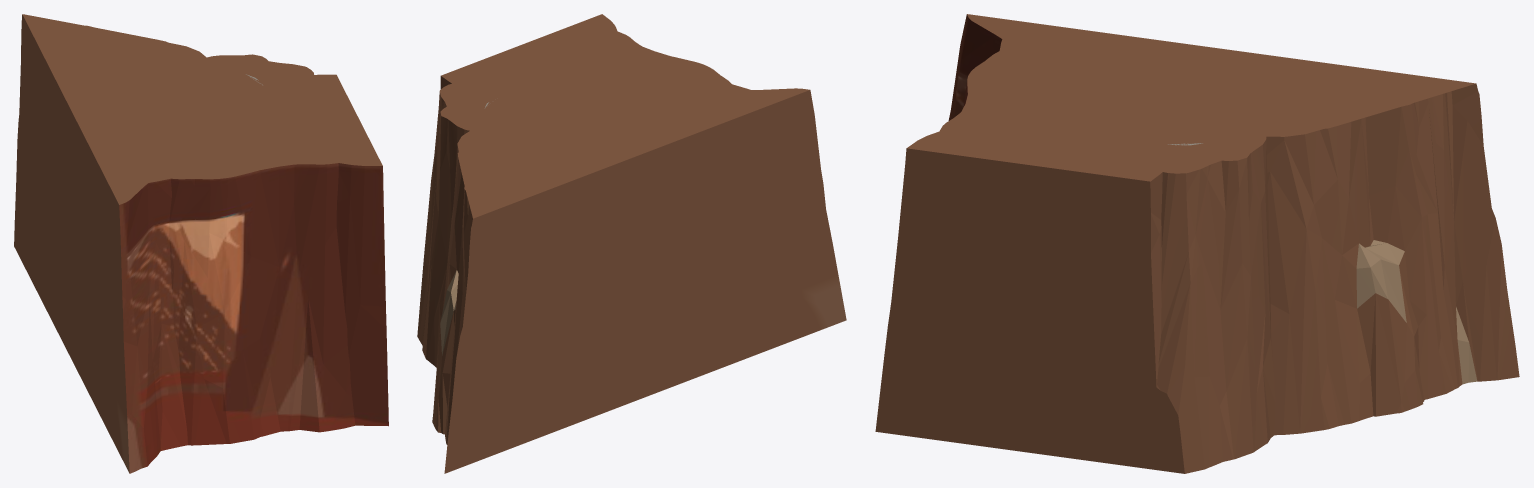
The model's file is LD 2 - Train track shortcut 1 Paint.fbx.
The picture shows the model from 3 angles, left to right: view 1: azimuth 30°, elevation 25°; view 2: azimuth 150°, elevation 25°; view 3: azimuth 270°, elevation 25°; orthographic projection. The views are drawn at different scales.
Visible parts, largest first — view 1: SM_Env_Cliff_Cap_01.002; view 2: SM_Env_Cliff_Cap_01.002; view 3: SM_Env_Cliff_Cap_01.002.
Boxes of the visible parts, x1=… form: SM_Env_Cliff_Cap_01.002: x1=14, y1=14, x2=388, y2=473; SM_Env_Cliff_Cap_01.002: x1=417, y1=14, x2=846, y2=473; SM_Env_Cliff_Cap_01.002: x1=875, y1=14, x2=1519, y2=473.
Size of the model in its own units: 1983 by 1480 by 3004.
